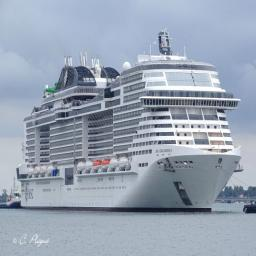cruises: (17, 31, 245, 216)
